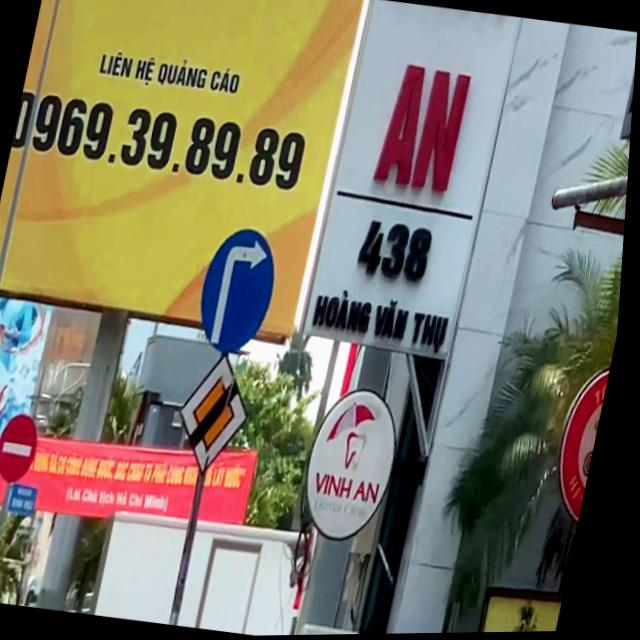Cac xe chi duoc re phai: (194, 224, 290, 361)
Cam di nguoc chieu: (0, 411, 50, 487)
